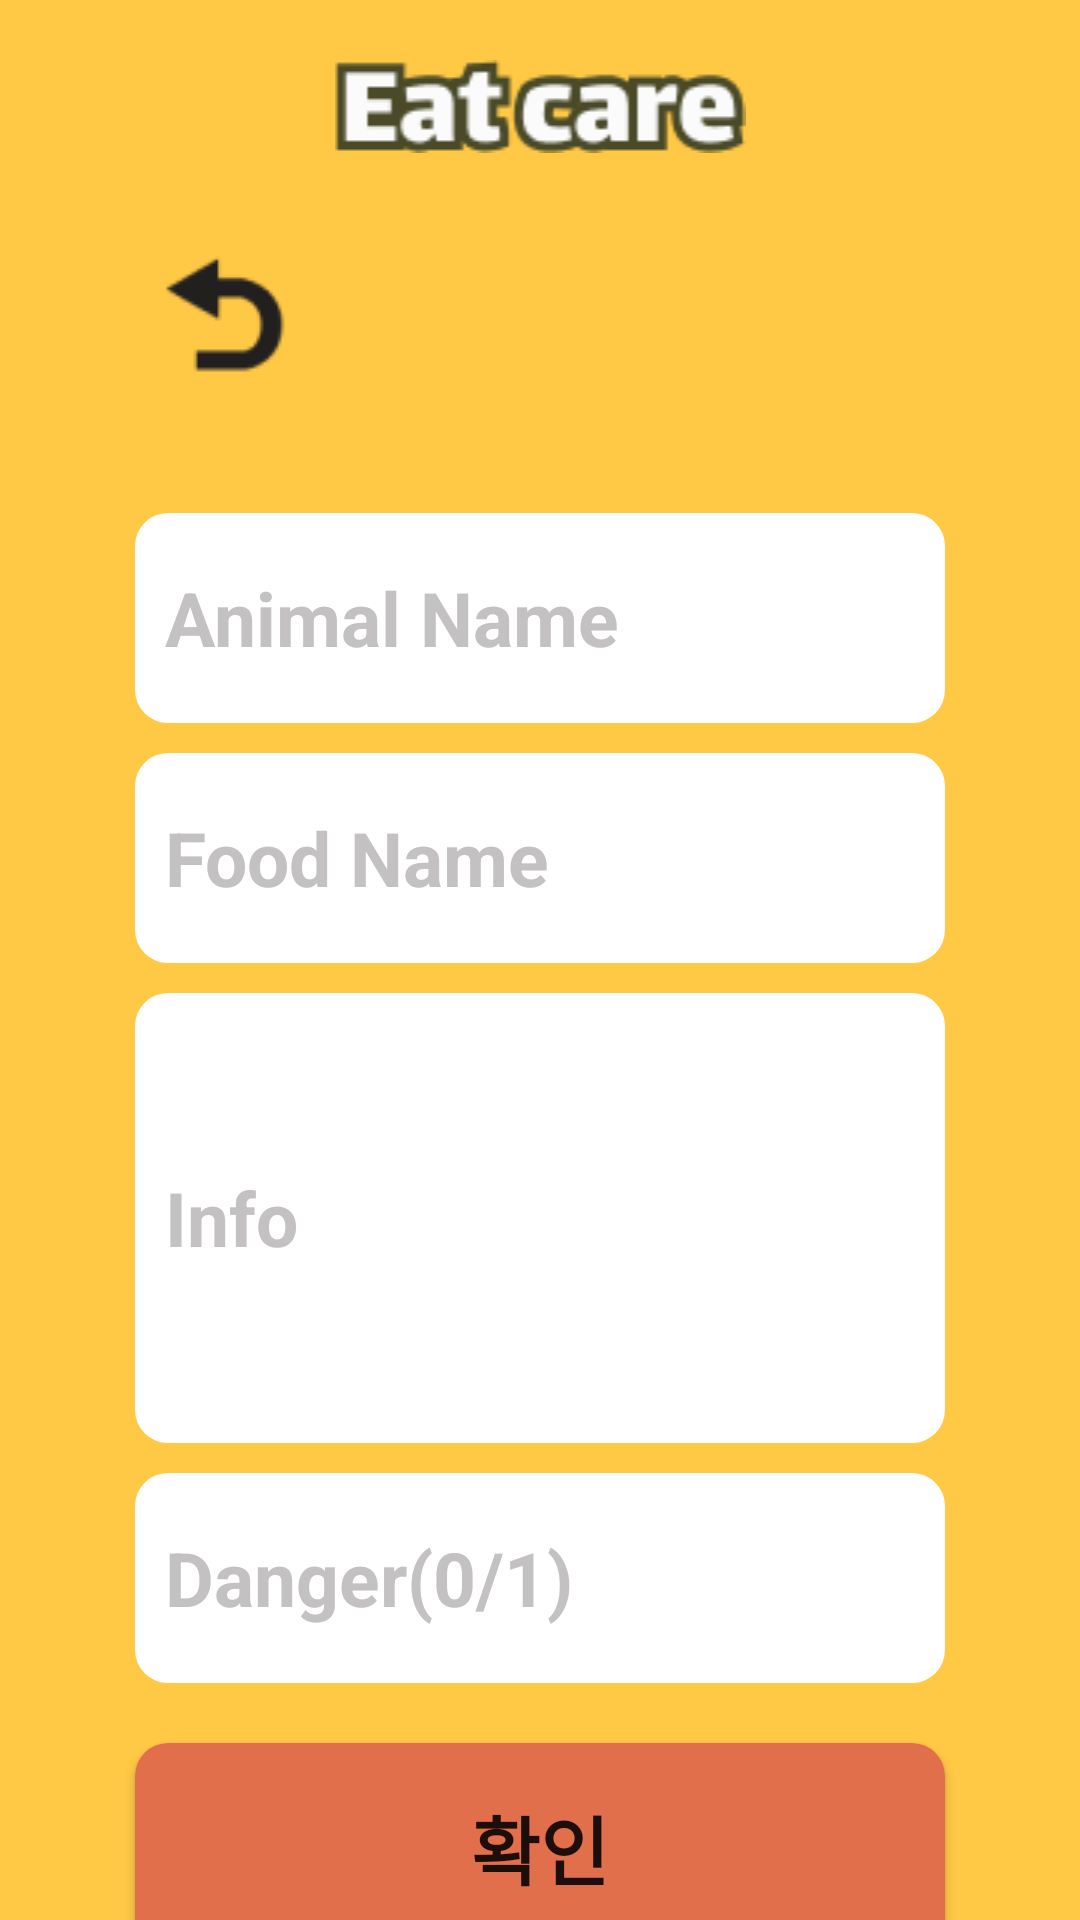

Icons on this 1080px x 1920px Android screen, each with the point to tap as point (x, y):
back: point (225, 315)
